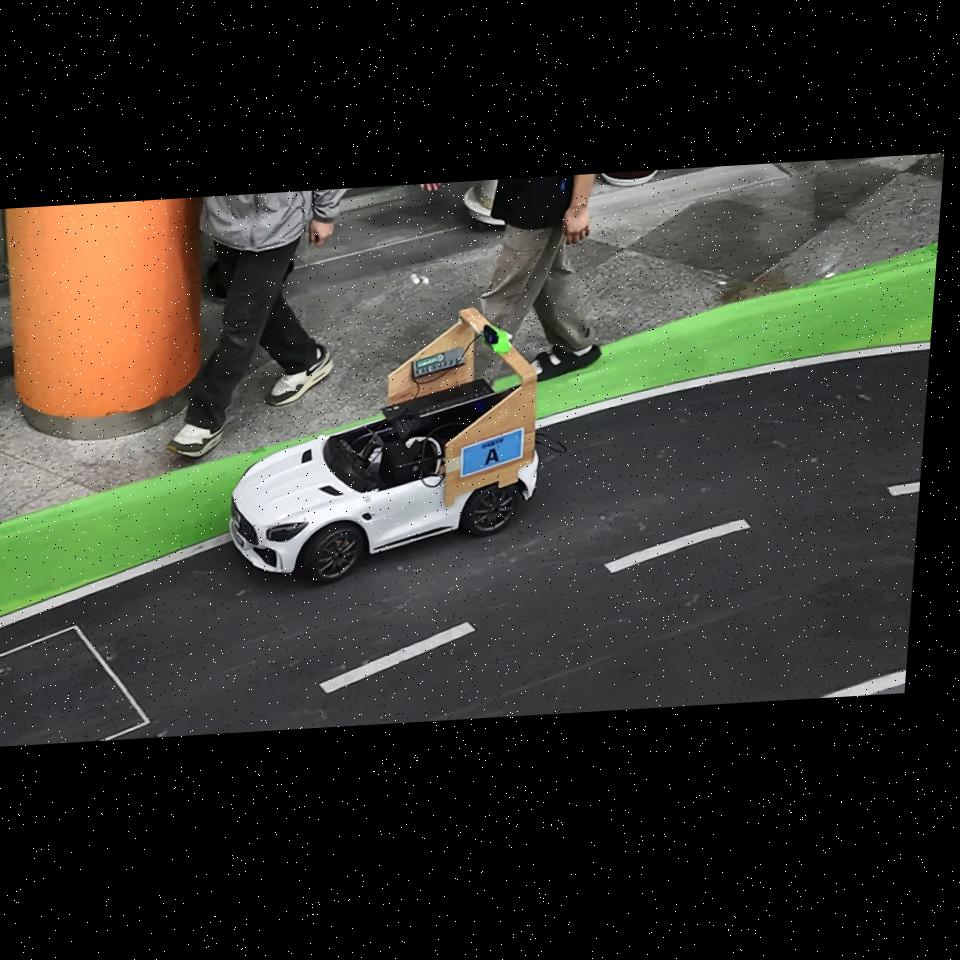broken_line: (319, 621, 476, 694), (603, 519, 751, 573), (886, 482, 920, 496)
